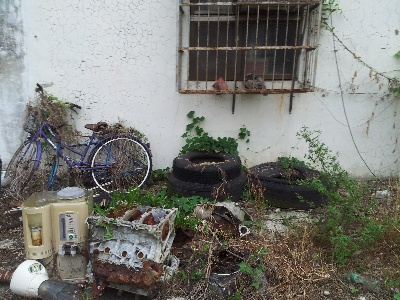tire: (255, 164, 335, 209), (168, 169, 249, 202), (170, 149, 242, 183)
